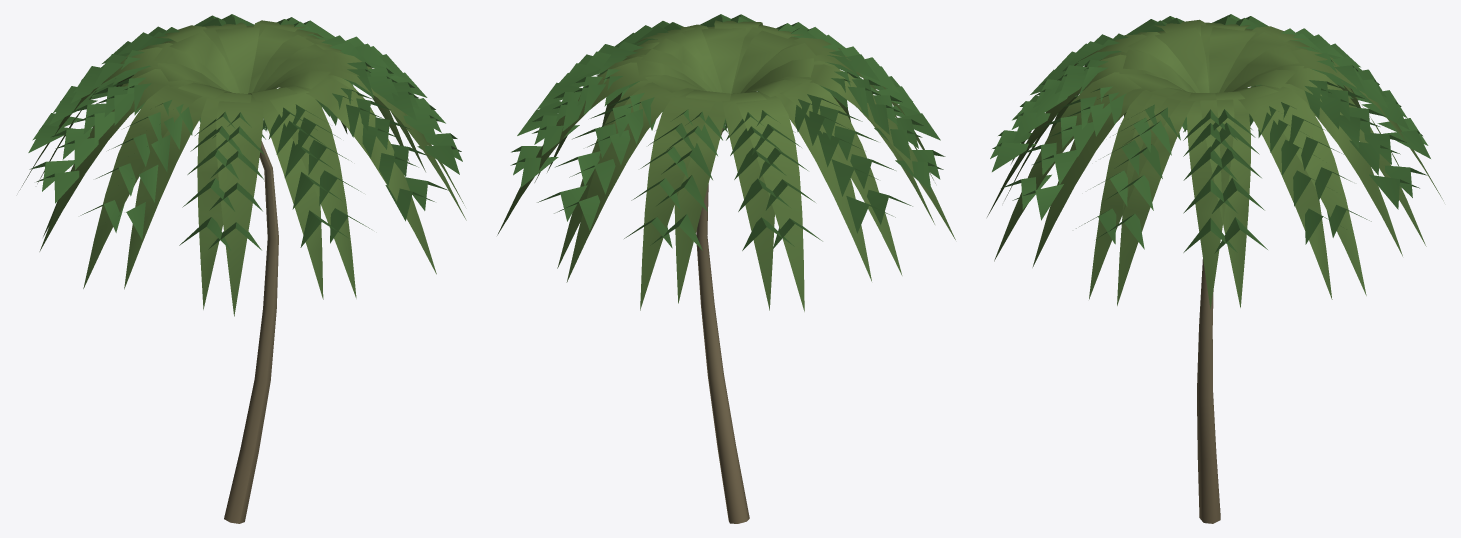
The model's file is climate-palm.glb.
3 renders of one model, left to right at view 1: azimuth 30°, elevation 25°; view 2: azimuth 150°, elevation 25°; view 3: azimuth 270°, elevation 25°, orthographic.
Parts seen in each view (by area): view 1: palm-0, palm-1; view 2: palm-0, palm-1; view 3: palm-0, palm-1.
Boxes of the visible parts, left/top/right/bottom form: palm-0: left=29, top=14, right=466, bottom=523; palm-1: left=19, top=15, right=464, bottom=316; palm-0: left=507, top=14, right=955, bottom=523; palm-1: left=497, top=14, right=945, bottom=311; palm-0: left=990, top=16, right=1443, bottom=523; palm-1: left=987, top=14, right=1428, bottom=307.
Size of the model in its own units: 0.8844 by 1 by 0.9075.
